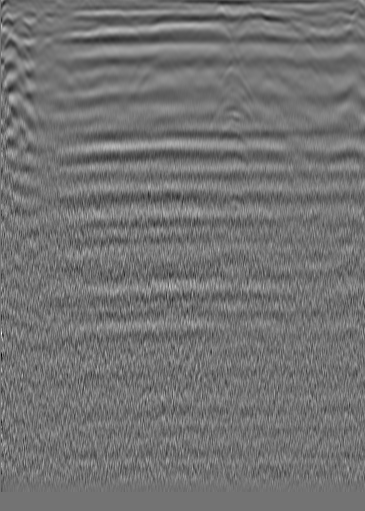가스: (221, 185, 250, 212)
상수: (295, 31, 315, 51)
오수: (9, 16, 29, 36)
우수: (150, 24, 170, 44)
